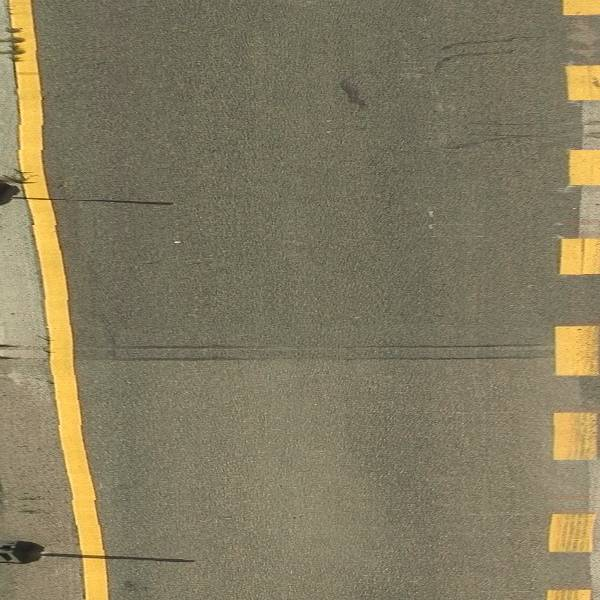road_damage: (103, 342, 554, 364), (428, 31, 537, 79), (439, 118, 544, 156)
